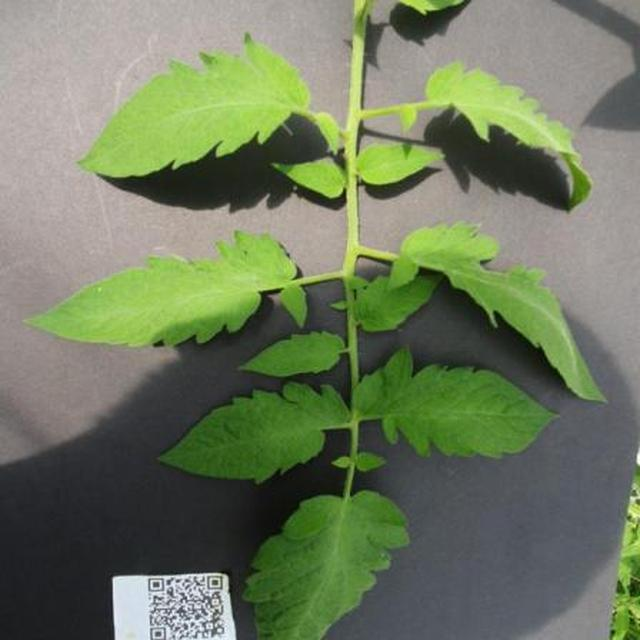Healthy Leaf: (158, 68, 640, 640)
